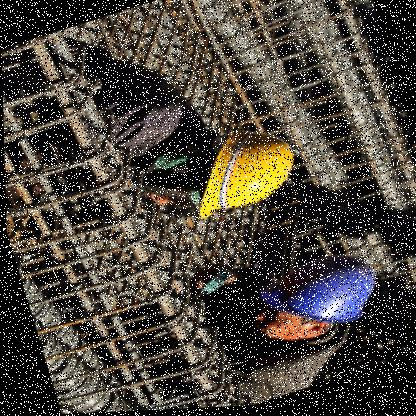helmet: (243, 249, 389, 358), (170, 112, 307, 228)
